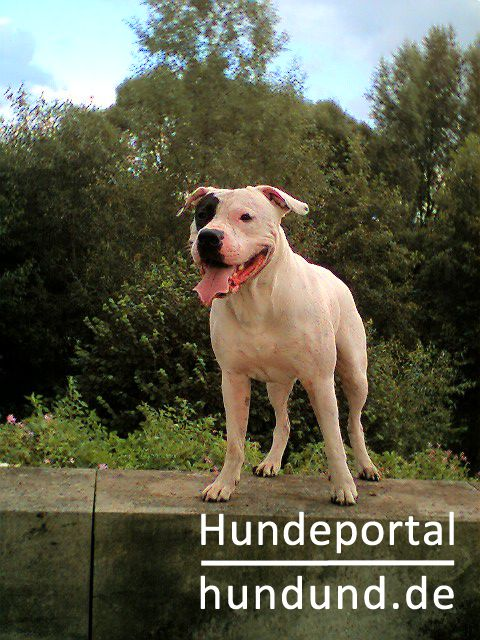dogo_argentino: (176, 185, 379, 505)
